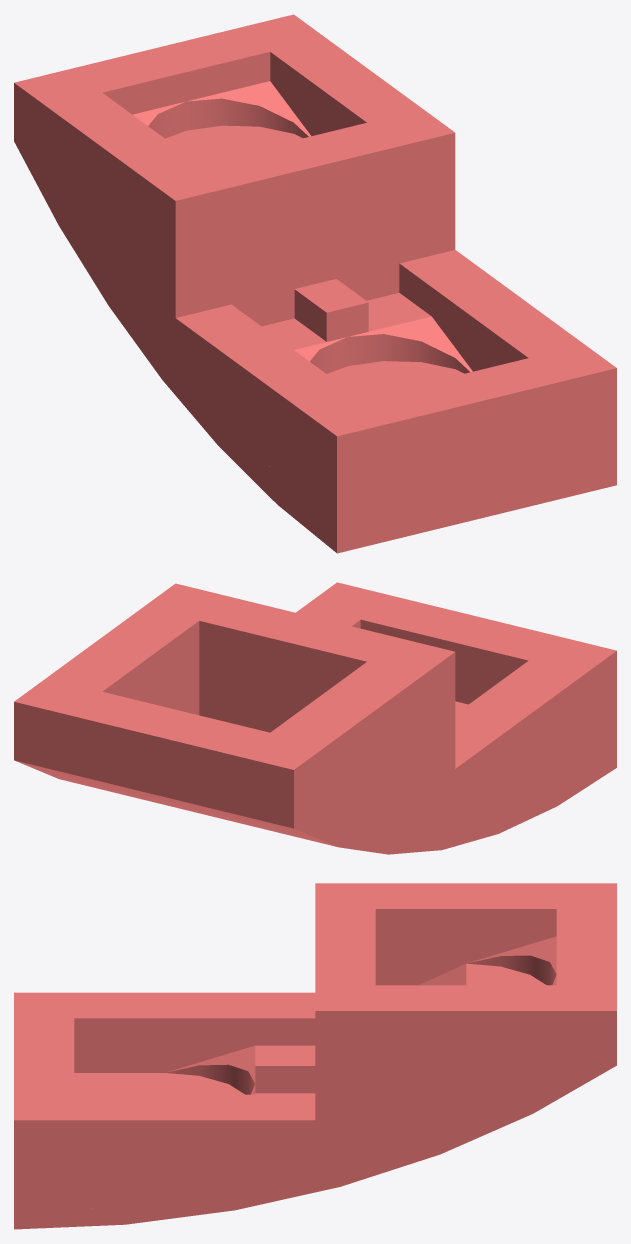
The picture shows the model from 3 angles, top to bottom: view 1: azimuth 30°, elevation 25°; view 2: azimuth 150°, elevation 25°; view 3: azimuth 270°, elevation 25°; orthographic projection. The views are drawn at different scales.
Visible parts, largest first — view 1: LDrawPart; view 2: LDrawPart; view 3: LDrawPart.
Boxes of the visible parts, left/top/right/bottom form: LDrawPart: left=14, top=14, right=616, bottom=553; LDrawPart: left=14, top=582, right=616, bottom=854; LDrawPart: left=14, top=883, right=616, bottom=1229.
Bounding box in the file's own units: 0.14 × 0.112 × 0.28.
